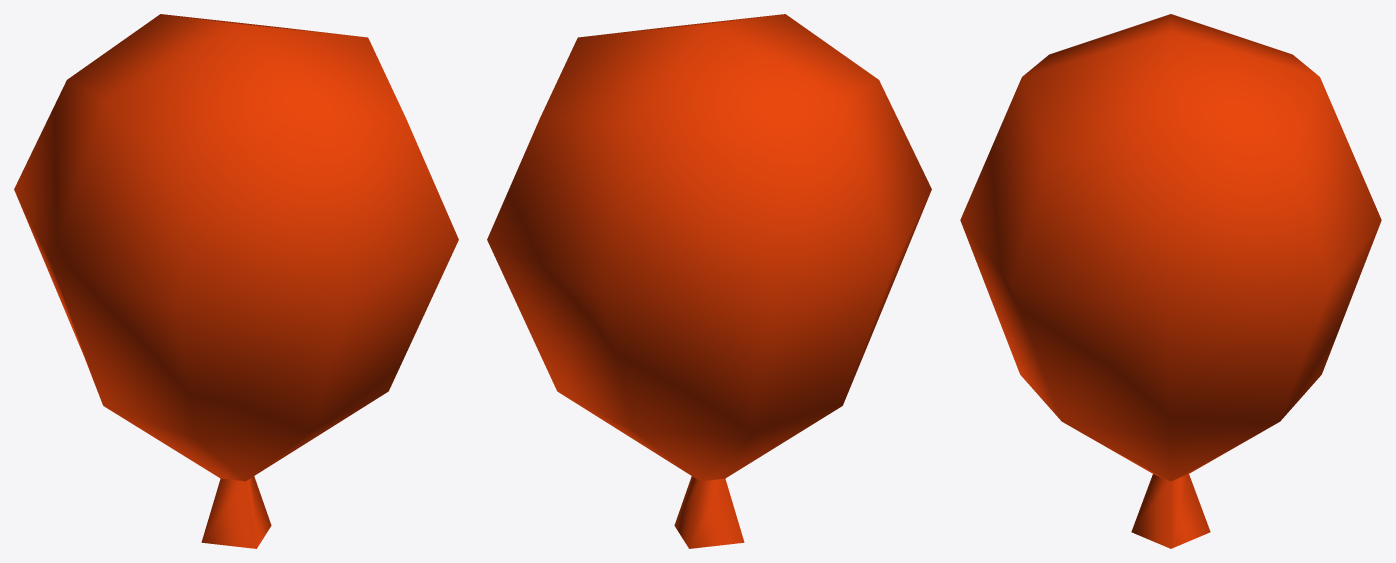
File: Balao.fbx
3 views of the same model, side by side, from view 1: azimuth 30°, elevation 25°; view 2: azimuth 150°, elevation 25°; view 3: azimuth 270°, elevation 25° (orthographic). The views are drawn at different scales.
Parts seen in each view (by area): view 1: Balão; view 2: Balão; view 3: Balão.
Part boxes in pixels (x1,y1,x2,y2): Balão: (14, 14, 458, 548); Balão: (487, 14, 931, 548); Balão: (960, 14, 1381, 548).
Bounding box in the file's own units: 57.93 × 75.75 × 57.93.
